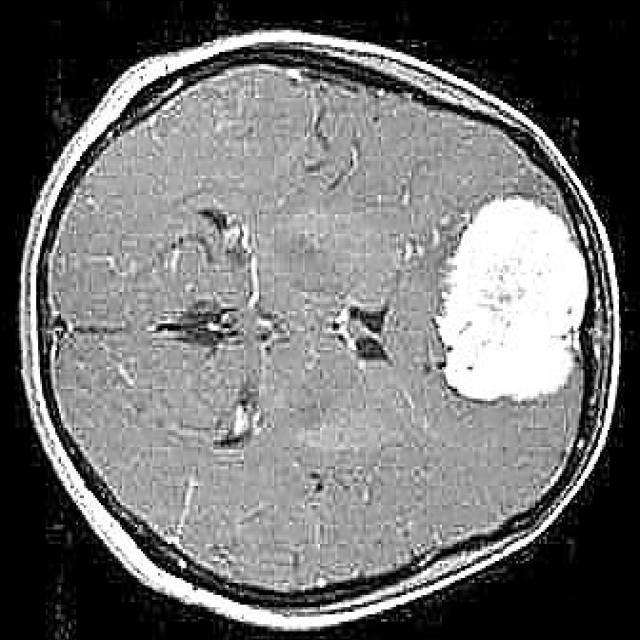tumor: (432, 194, 592, 402)
